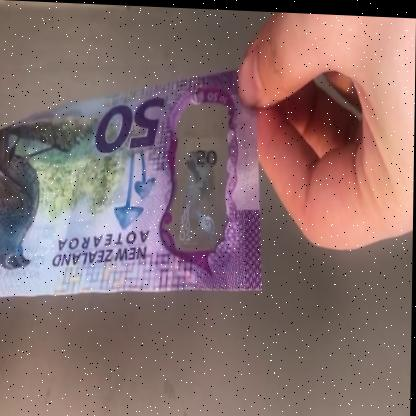50B: (179, 114, 219, 247)
